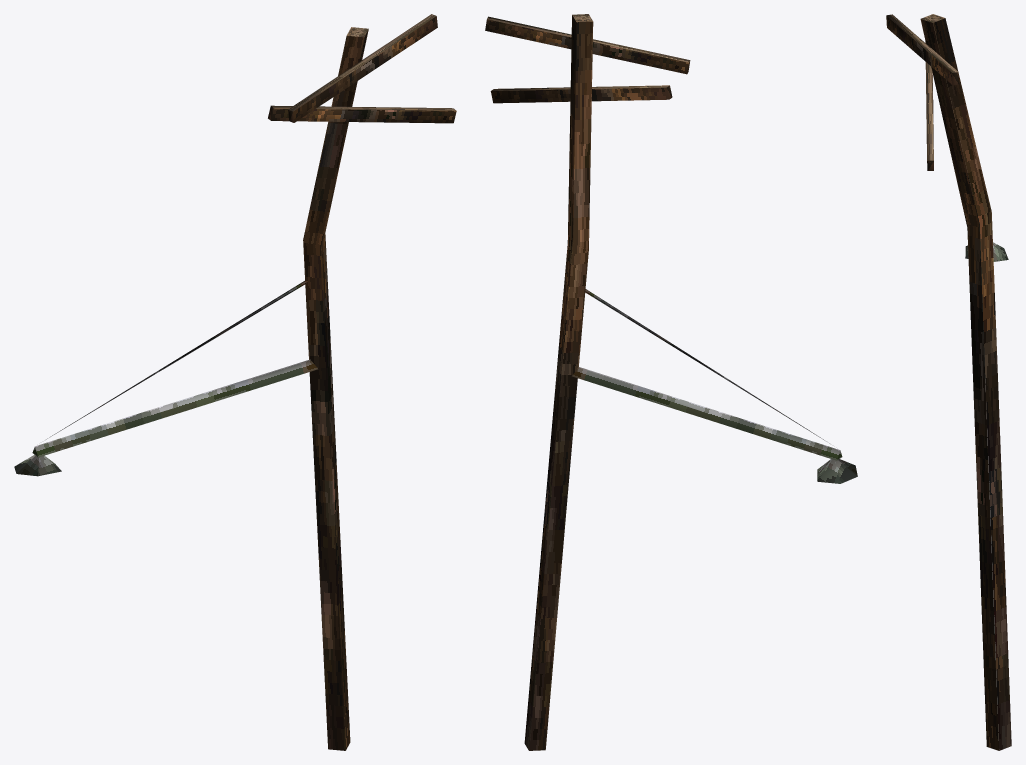
The model's file is USA - Prop - Old Wooden Telephone Poll - Damaged - PATtelpost_D.glb.
3 views of the same model, side by side, from view 1: azimuth 30°, elevation 25°; view 2: azimuth 150°, elevation 25°; view 3: azimuth 270°, elevation 25° (orthographic). The views are drawn at different scales.
Parts seen in each view (by area): view 1: PATTELPOST_D; view 2: PATTELPOST_D; view 3: PATTELPOST_D.
Boxes of the visible parts, x1,y1,x2,y2 form: PATTELPOST_D: [14, 14, 456, 750]; PATTELPOST_D: [485, 14, 857, 750]; PATTELPOST_D: [886, 14, 1011, 750].
Bounding box in the file's own units: 22.59 × 39.1 × 6.16.
1 material, 1 textured.
